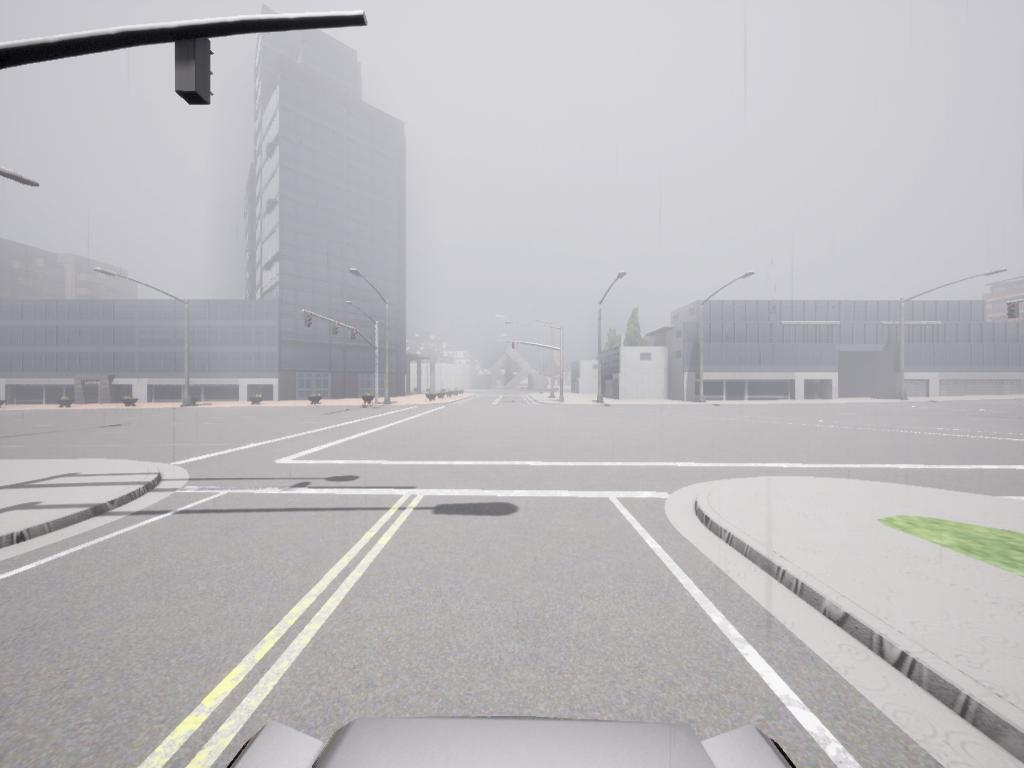traffic_light: (305, 311, 314, 331), (332, 322, 341, 338), (351, 328, 359, 342), (512, 341, 516, 352)
